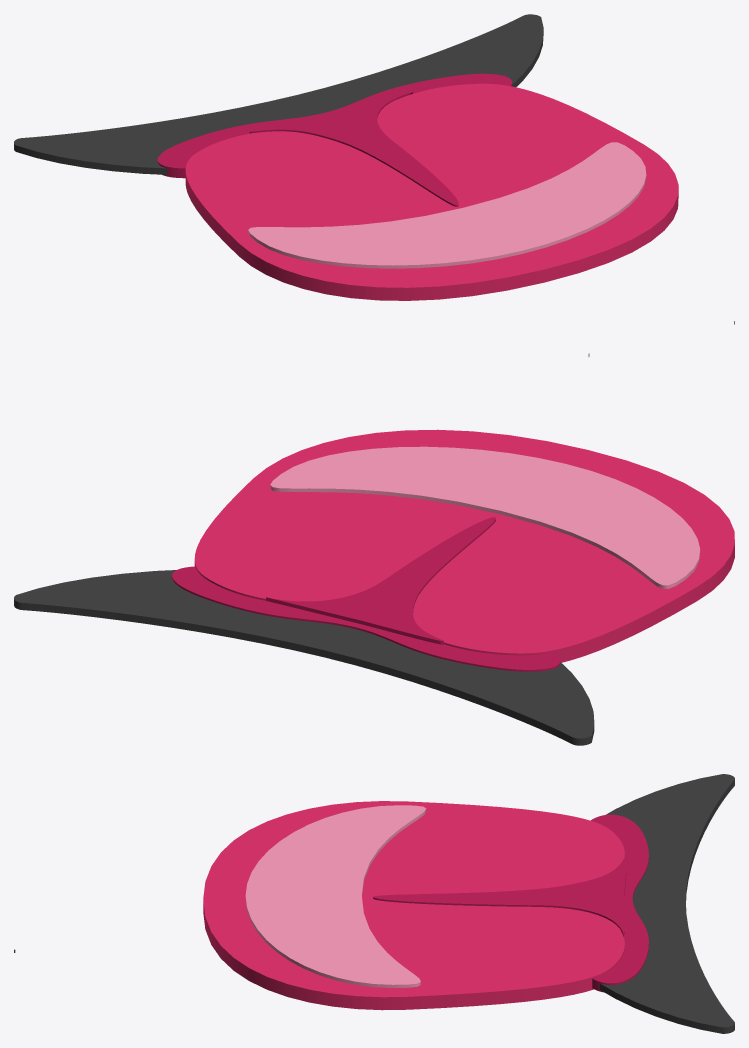
File: emoji_u1f445.glb
3 renders of one model, top to bottom at view 1: azimuth 30°, elevation 25°; view 2: azimuth 150°, elevation 25°; view 3: azimuth 270°, elevation 25°, orthographic. The views are drawn at different scales.
Parts seen in each view (by area): view 1: emoji_u1f445; view 2: emoji_u1f445; view 3: emoji_u1f445.
Boxes of the visible parts, left/top/right/bottom form: emoji_u1f445: left=14, top=14, right=734, bottom=324; emoji_u1f445: left=14, top=353, right=734, bottom=745; emoji_u1f445: left=14, top=774, right=734, bottom=1033.
Bounding box in the file's own units: 0.0336 × 0.0012 × 0.0404.
